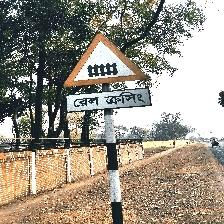Rail-crossing: (62, 32, 151, 116)
